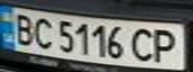1: (90, 21, 109, 57), (72, 20, 90, 56)
5: (54, 18, 75, 53)
6: (106, 24, 130, 61)
B: (6, 10, 39, 46)
C: (127, 26, 160, 63), (30, 15, 57, 49)
P: (148, 26, 184, 64)
